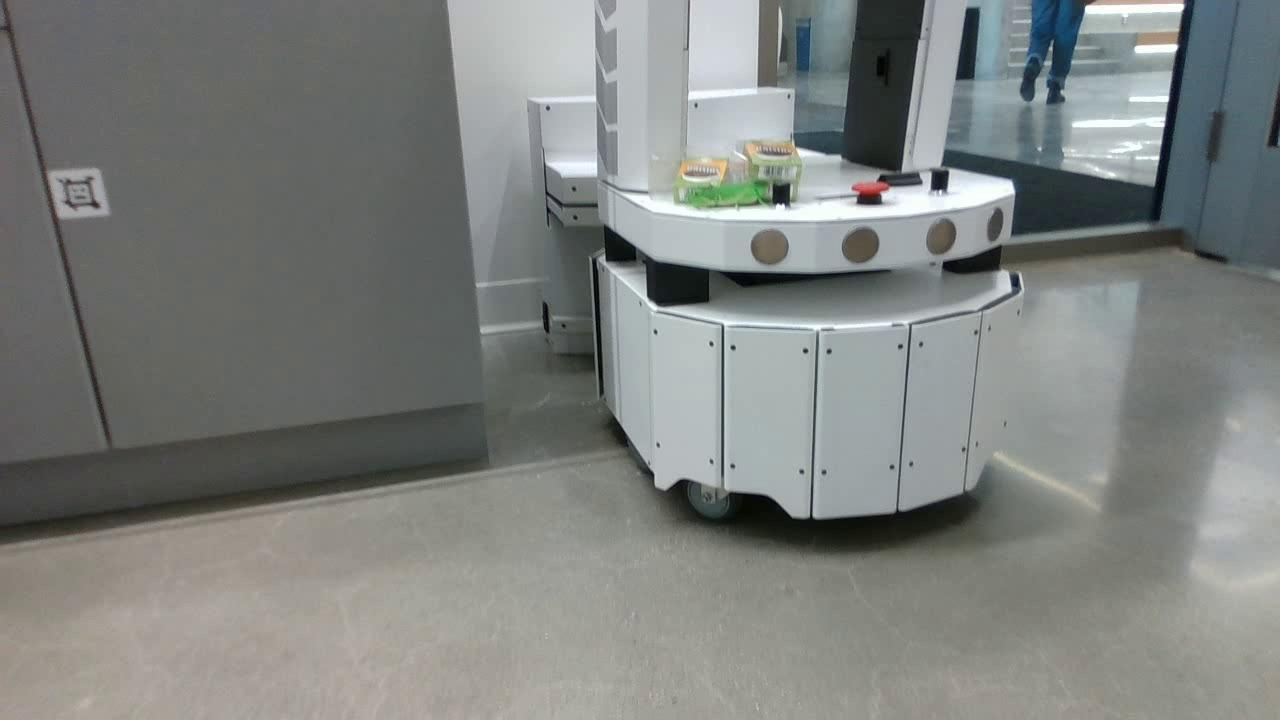grasshopper: (684, 182, 769, 205)
